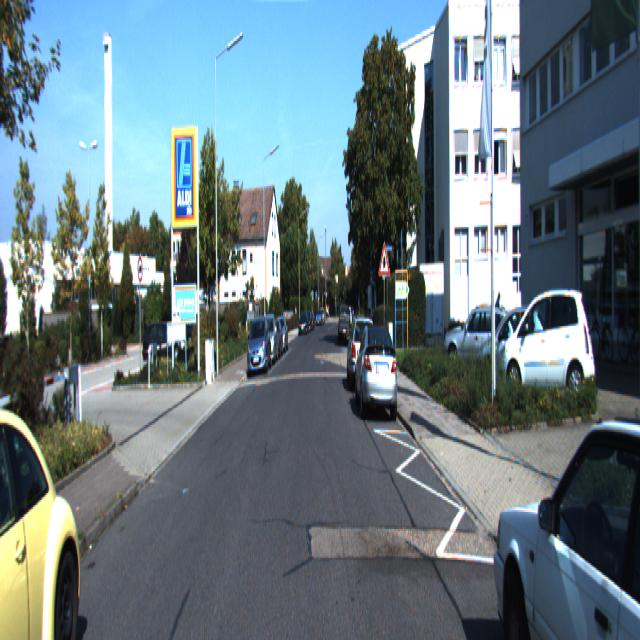Car: (488, 376, 640, 638), (0, 371, 87, 638), (498, 280, 597, 411), (469, 298, 553, 398), (439, 300, 516, 380), (353, 322, 399, 424), (346, 313, 378, 395), (246, 316, 272, 377), (338, 304, 351, 346)
